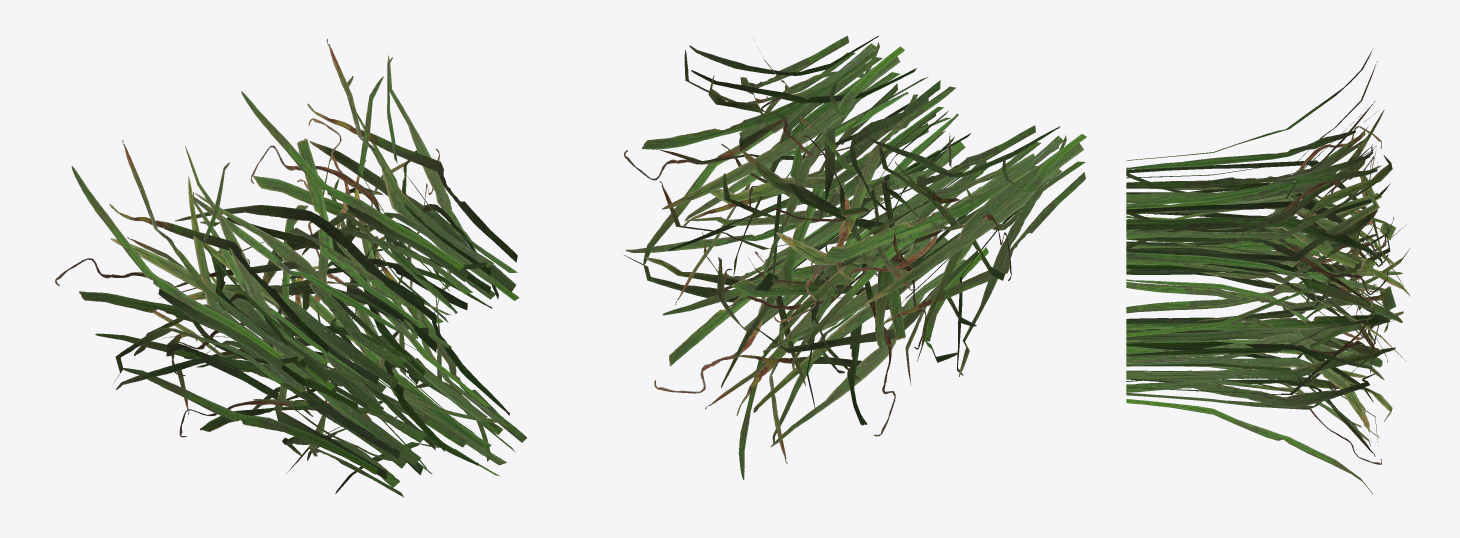
The model's file is grass.dae.
3 renders of one model, left to right at view 1: azimuth 30°, elevation 25°; view 2: azimuth 150°, elevation 25°; view 3: azimuth 270°, elevation 25°, orthographic. The views are drawn at different scales.
Parts seen in each view (by area): view 1: grass; view 2: grass; view 3: grass.
Boxes of the visible parts, x1=… form: grass: x1=55, y1=39, x2=526, y2=497; grass: x1=624, y1=35, x2=1086, y2=479; grass: x1=1126, y1=49, x2=1410, y2=494.
Bounding box in the file's own units: 1.08 × 0.7171 × 1.08.
